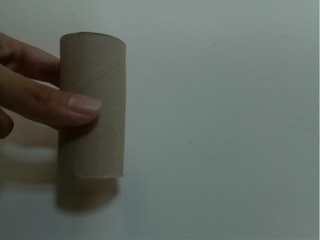rollo papel: (54, 32, 127, 184)
